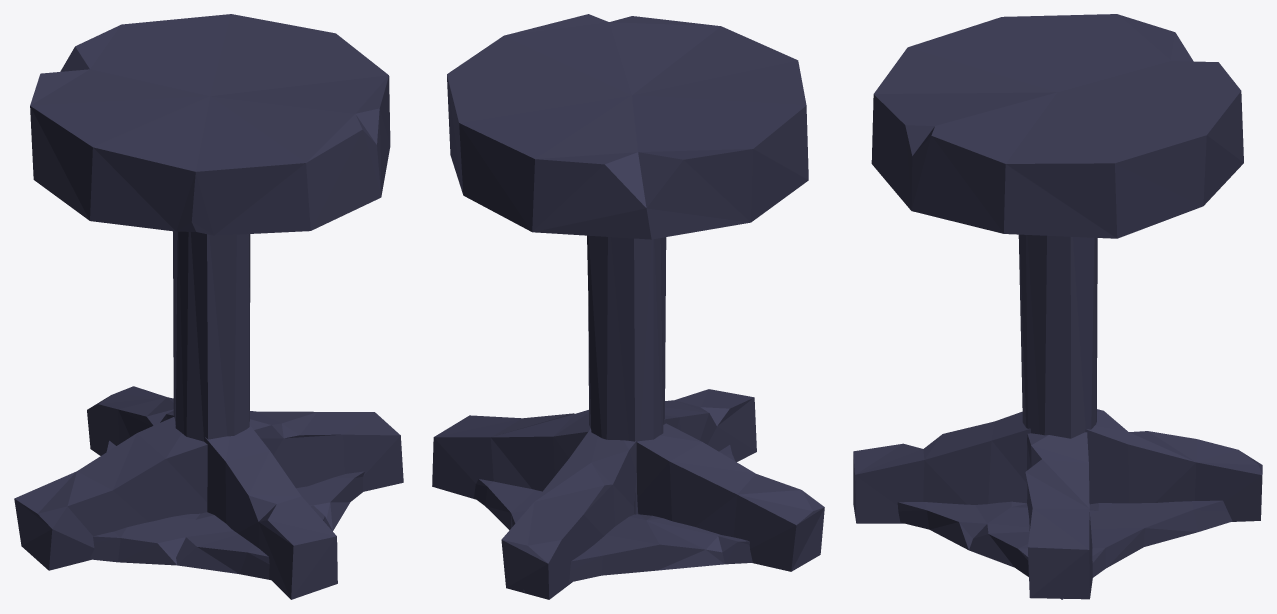
Rendered from SFFA_Stool.fbx.
3 renders of one model, left to right at view 1: azimuth 30°, elevation 25°; view 2: azimuth 150°, elevation 25°; view 3: azimuth 270°, elevation 25°, orthographic.
Parts seen in each view (by area): view 1: SFFA_Stool; view 2: SFFA_Stool; view 3: SFFA_Stool.
Boxes of the visible parts, x1,y1,x2,y2 form: SFFA_Stool: (14, 14, 403, 599); SFFA_Stool: (432, 14, 824, 599); SFFA_Stool: (853, 14, 1262, 599).
Size of the model in its own units: 56.17 by 64.4 by 55.37.
